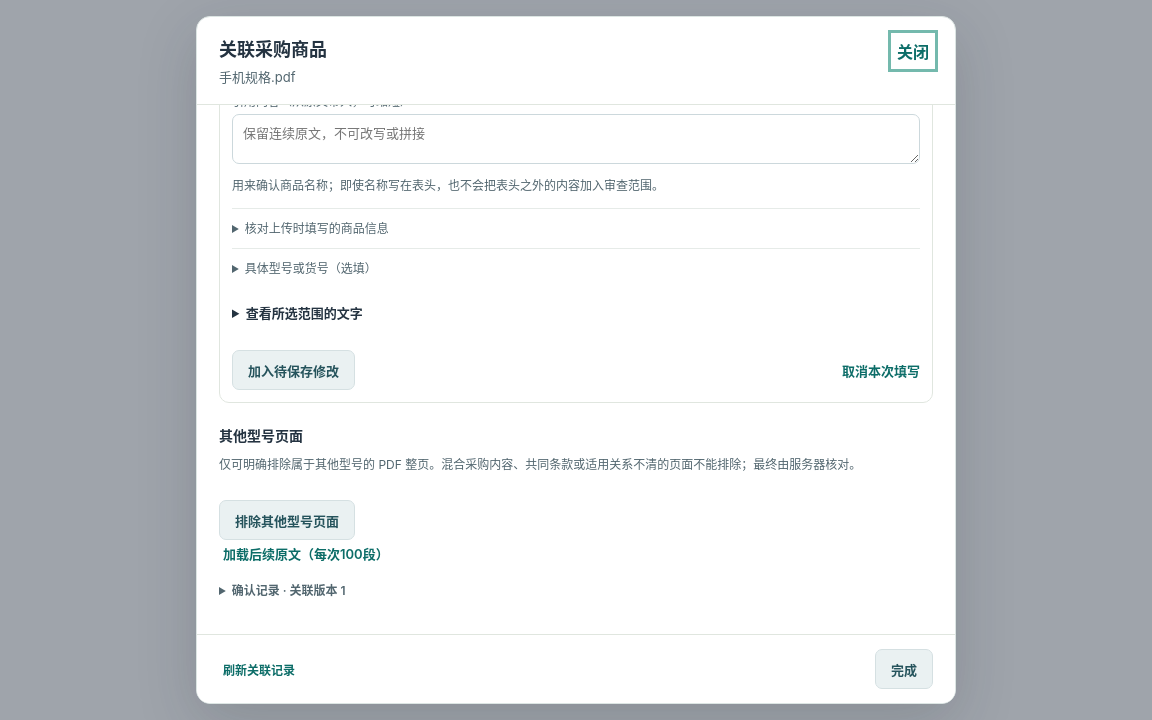
Scenario: probes the terminal page at capacity without accepting excess blocks (25100)
(page scrolled)
Click the button with test id "exclusion-add" at (287, 520), box [219,500,355,540]
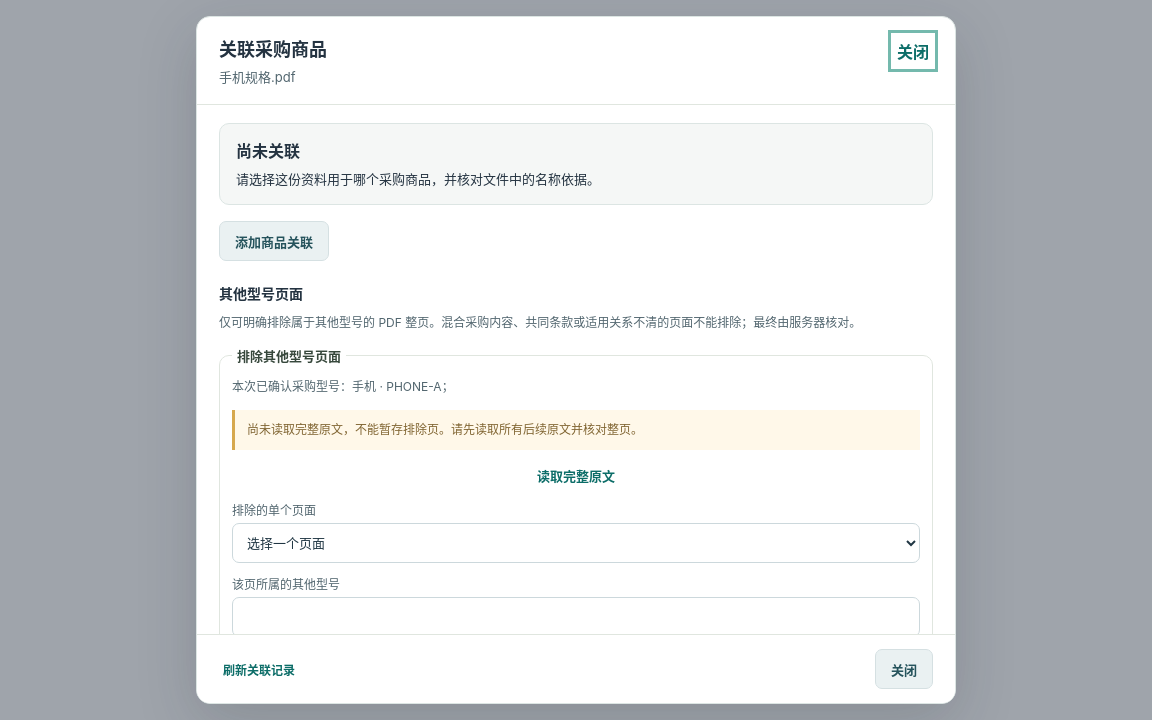
Click the button with test id "exclusion-load-all" at (576, 476), box [232,462,920,489]
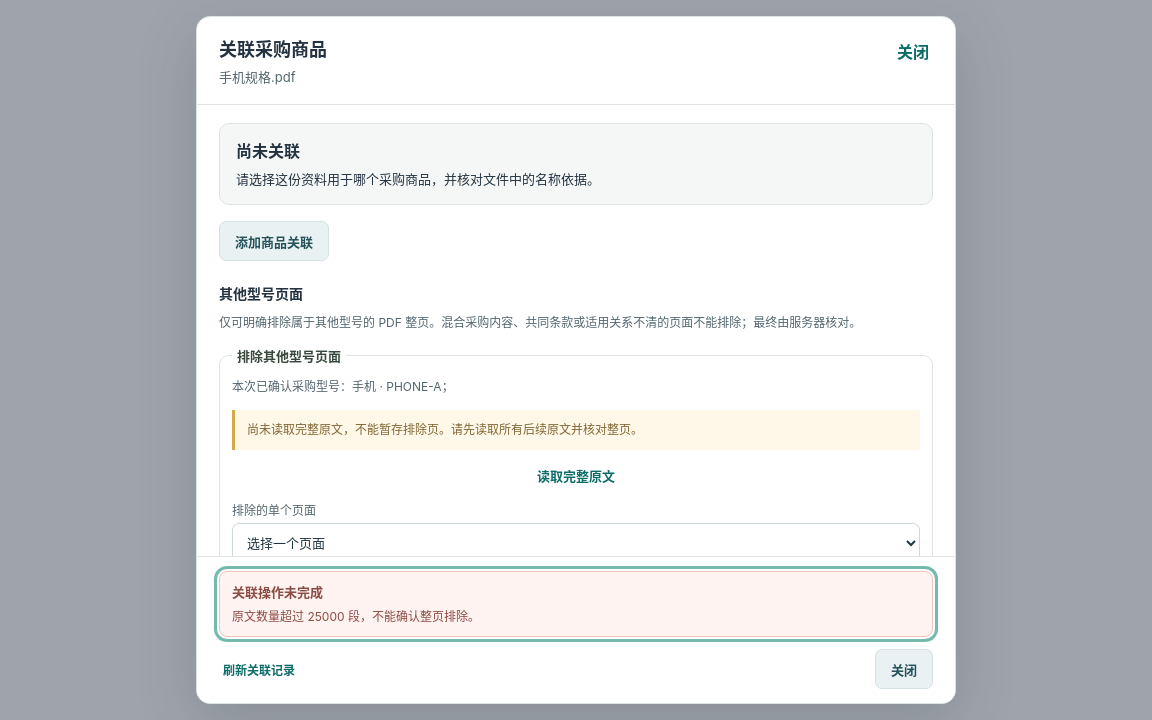
Result: the button with test id "exclusion-load-all" is shown at [232,462,920,489]
Result: the text "原文数量超过 25000 段" is shown at [232,609,480,624]
